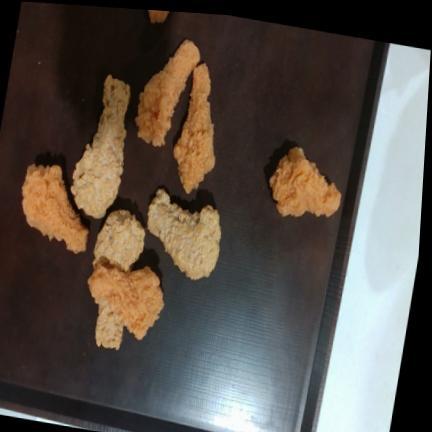chicken: (71, 76, 130, 218), (136, 40, 200, 146), (148, 188, 221, 280), (22, 164, 89, 253), (88, 266, 164, 339), (174, 64, 215, 194), (270, 147, 341, 217), (93, 209, 145, 271), (95, 302, 123, 349)
